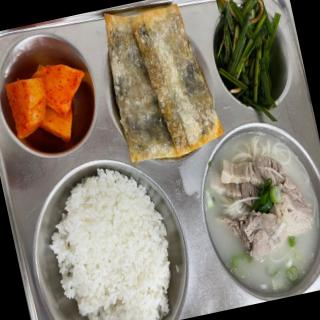Nasi: (46, 169, 182, 320)
